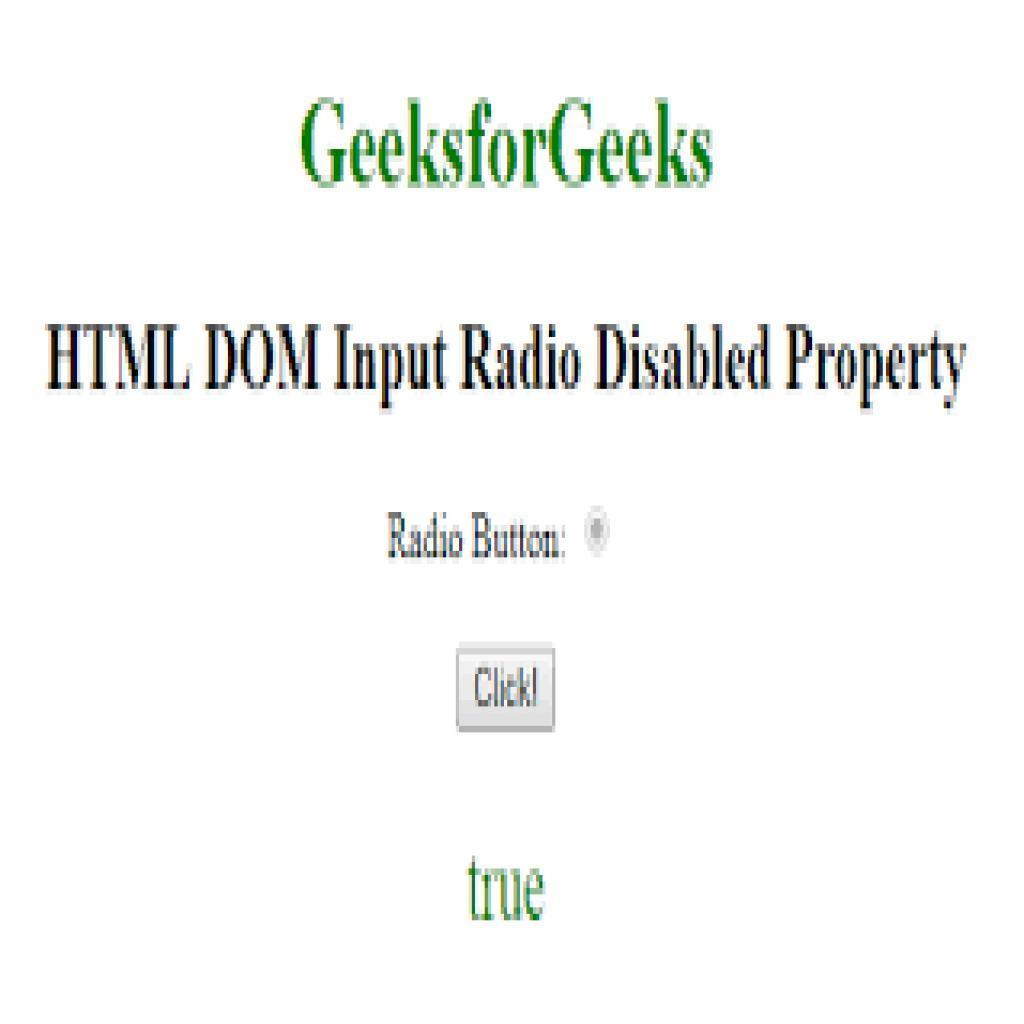button: (456, 646, 555, 732)
radio: (581, 497, 613, 560)
